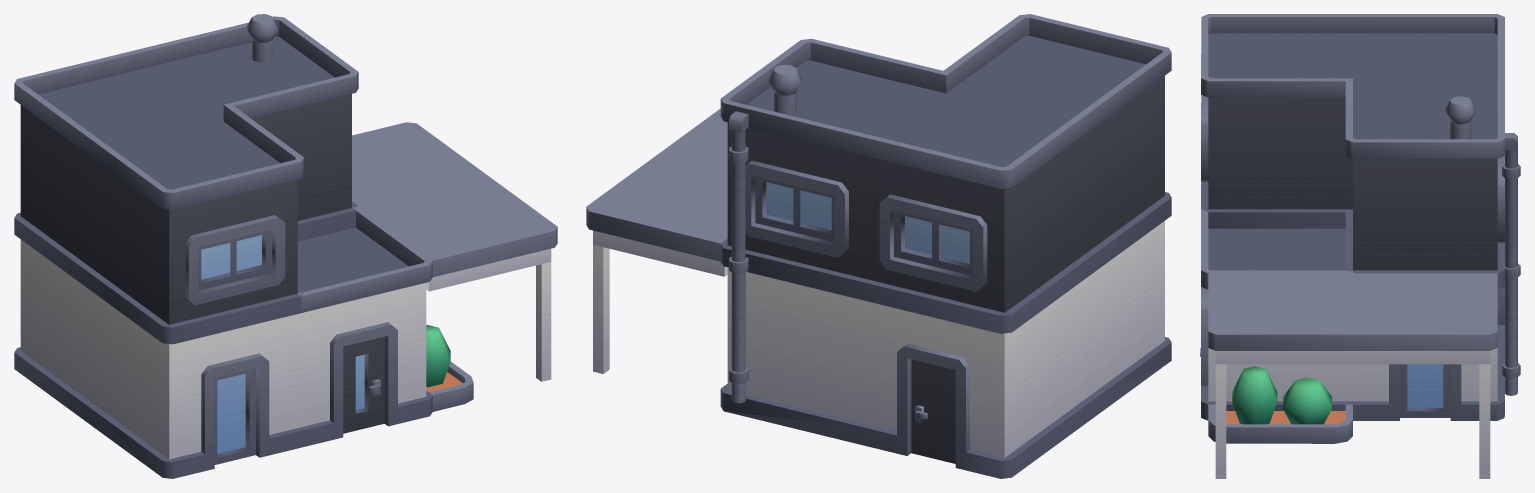
The model's file is building-type-q.003_lev3.glb.
3 renders of one model, left to right at view 1: azimuth 30°, elevation 25°; view 2: azimuth 150°, elevation 25°; view 3: azimuth 270°, elevation 25°, orthographic. The views are drawn at different scales.
Visible parts, largest first — view 1: building-type-q.003_lev3; view 2: building-type-q.003_lev3; view 3: building-type-q.003_lev3.
Part boxes in pixels (x1,y1,x2,y2): building-type-q.003_lev3: (14, 14, 557, 478); building-type-q.003_lev3: (586, 14, 1171, 478); building-type-q.003_lev3: (1200, 14, 1520, 478).
Bounding box in the file's own units: 4.96 × 3.67 × 3.54.
1 material, 1 textured.
